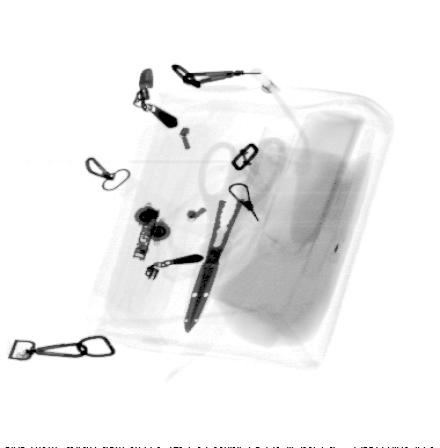Scissors: (183, 138, 289, 333)
